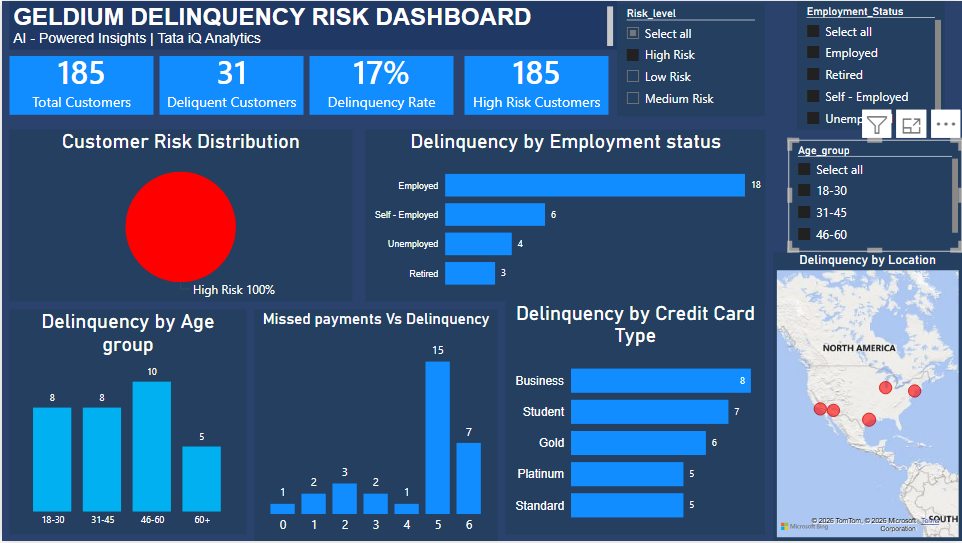

This screenshot's page, from the dashboard's own definition file:
{"tool":"powerbi","page":{"name":"Page 1","canvas":[1280,720],"ordinal":0},"visuals":[{"type":"textbox","box":[10,0,810,65],"z":0},{"type":"cardVisual","fields":{"Data":["CountNonNull(Delinquency_prediction_dataset.Customer_ID)"]},"box":[10,74,192,78],"z":1000},{"type":"cardVisual","fields":{"Data":["Delinquency_prediction_dataset.Deliquent Customers"]},"box":[210,74,192,78],"z":2000},{"type":"cardVisual","fields":{"Data":["Delinquency_prediction_dataset.Delinquency Rate"]},"box":[410,74,192,78],"z":3000},{"type":"cardVisual","fields":{"Data":["CountNonNull(Delinquency_prediction_dataset.Customer_ID)"]},"box":[617.5,74.1,192.1,78.2],"z":4000},{"type":"pieChart","title":"Customer Risk Distribution","fields":{"Y":["CountNonNull(Delinquency_prediction_dataset.Customer_ID)"],"Category":["Delinquency_prediction_dataset.Risk_level"]},"box":[9.6,171.5,456.9,229.2],"z":5000},{"type":"clusteredBarChart","title":"Delinquency by Employment status","fields":{"Category":["Delinquency_prediction_dataset.Employment_Status"],"Y":["Delinquency_prediction_dataset.Deliquent Customers"]},"box":[484.3,171.4,532.9,228.6],"z":6000},{"type":"clusteredColumnChart","title":"Delinquency by Age group","fields":{"Category":["Delinquency_prediction_dataset.Age_group"],"Y":["Delinquency_prediction_dataset.Deliquent Customers"]},"box":[9.6,411.7,315.6,299.1],"z":7000},{"type":"clusteredColumnChart","title":"Missed payments Vs Delinquency","fields":{"Category":["Delinquency_prediction_dataset.Missed_Payments"],"Y":["Delinquency_prediction_dataset.Deliquent Customers"]},"box":[337.1,411.4,324.3,308.6],"z":8000},{"type":"clusteredBarChart","title":"Delinquency by Credit Card Type","fields":{"Category":["Delinquency_prediction_dataset.Credit_Card_Type"],"Y":["Delinquency_prediction_dataset.Deliquent Customers"]},"box":[671.4,400,345.7,311.4],"z":9000},{"type":"map","title":"Delinquency by Location","fields":{"Category":["Delinquency_prediction_dataset.Location"],"Series":["Delinquency_prediction_dataset.Risk_level"],"Size":["Delinquency_prediction_dataset.Deliquent Customers"]},"box":[1028.3,335,251.7,385],"z":10000},{"type":"slicer","fields":{"Values":["Delinquency_prediction_dataset.Risk_level"]},"box":[820,2.9,197.1,150],"z":11000},{"type":"slicer","fields":{"Values":["Delinquency_prediction_dataset.Employment_Status"]},"box":[1060,0,197.1,171.4],"z":12000},{"type":"slicer","fields":{"Values":["Delinquency_prediction_dataset.Age_group"]},"box":[1048.6,184.3,231.4,150],"z":13000}]}

Visuals, with their boxes in screenshot pixels (x1, y1, x2, y2), scaled from the page's 1280x720 canvas onto the 962x543 screenshot:
textbox: bbox(8, 0, 616, 49)
cardVisual - CountNonNull(Delinquency_prediction_dataset.Customer_ID): bbox(8, 56, 152, 115)
cardVisual - Delinquency_prediction_dataset.Deliquent Customers: bbox(158, 56, 302, 115)
cardVisual - Delinquency_prediction_dataset.Delinquency Rate: bbox(308, 56, 452, 115)
cardVisual - CountNonNull(Delinquency_prediction_dataset.Customer_ID): bbox(464, 56, 608, 115)
"Customer Risk Distribution" pieChart: bbox(7, 129, 351, 302)
"Delinquency by Employment status" clusteredBarChart: bbox(364, 129, 764, 302)
"Delinquency by Age group" clusteredColumnChart: bbox(7, 310, 244, 536)
"Missed payments Vs Delinquency" clusteredColumnChart: bbox(253, 310, 497, 542)
"Delinquency by Credit Card Type" clusteredBarChart: bbox(505, 302, 764, 537)
"Delinquency by Location" map: bbox(773, 253, 961, 542)
slicer - Delinquency_prediction_dataset.Risk_level: bbox(616, 2, 764, 115)
slicer - Delinquency_prediction_dataset.Employment_Status: bbox(797, 0, 945, 129)
slicer - Delinquency_prediction_dataset.Age_group: bbox(788, 139, 961, 252)
